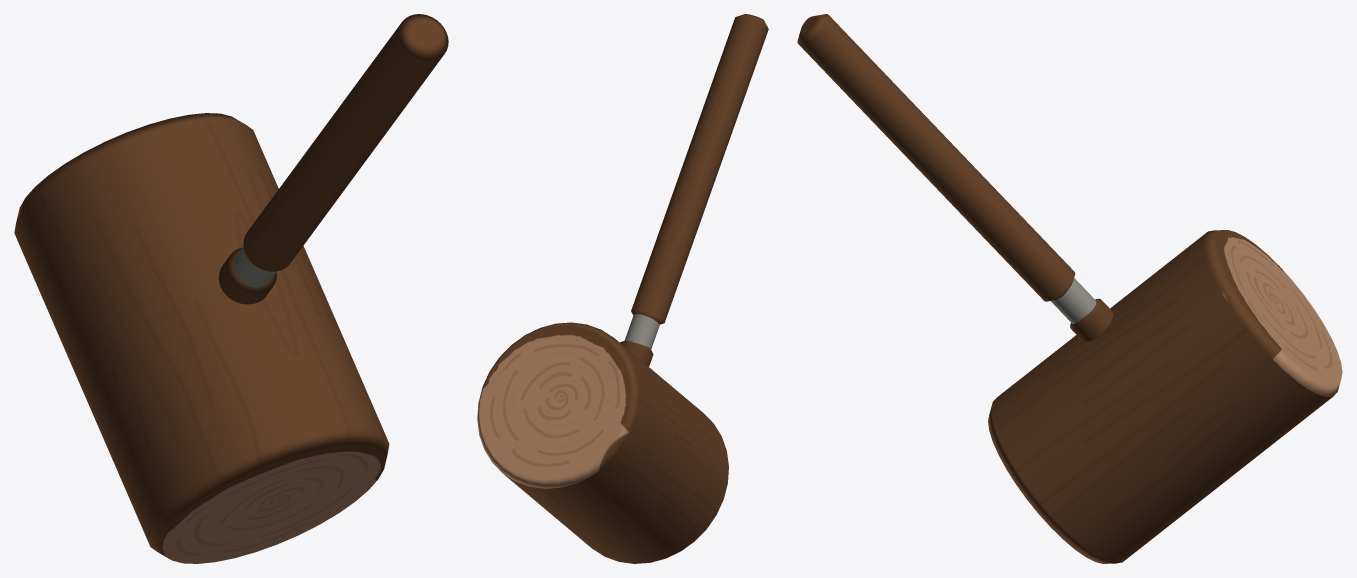
File: hammer_03.fbx
3 views of the same model, side by side, from view 1: azimuth 30°, elevation 25°; view 2: azimuth 150°, elevation 25°; view 3: azimuth 270°, elevation 25° (orthographic). The views are drawn at different scales.
Parts seen in each view (by area): view 1: Cylinder; view 2: Cylinder; view 3: Cylinder.
Boxes of the visible parts, x1,y1,x2,y2 form: Cylinder: (14,14,448,563); Cylinder: (477,14,768,563); Cylinder: (797,14,1342,563).
Size of the model in its own units: 200 by 569 by 525.
